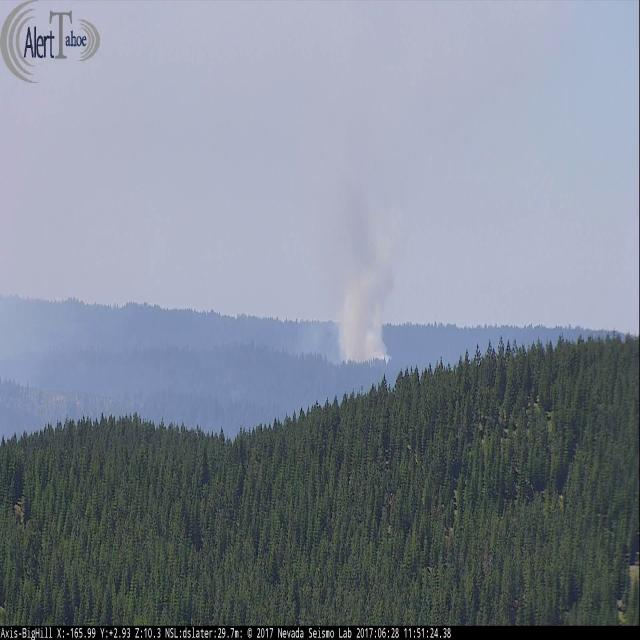smoke: (315, 104, 395, 376)
